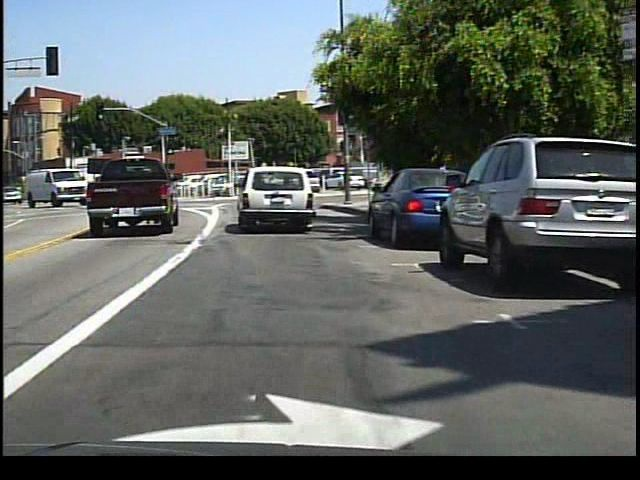person: (338, 169, 353, 198)
